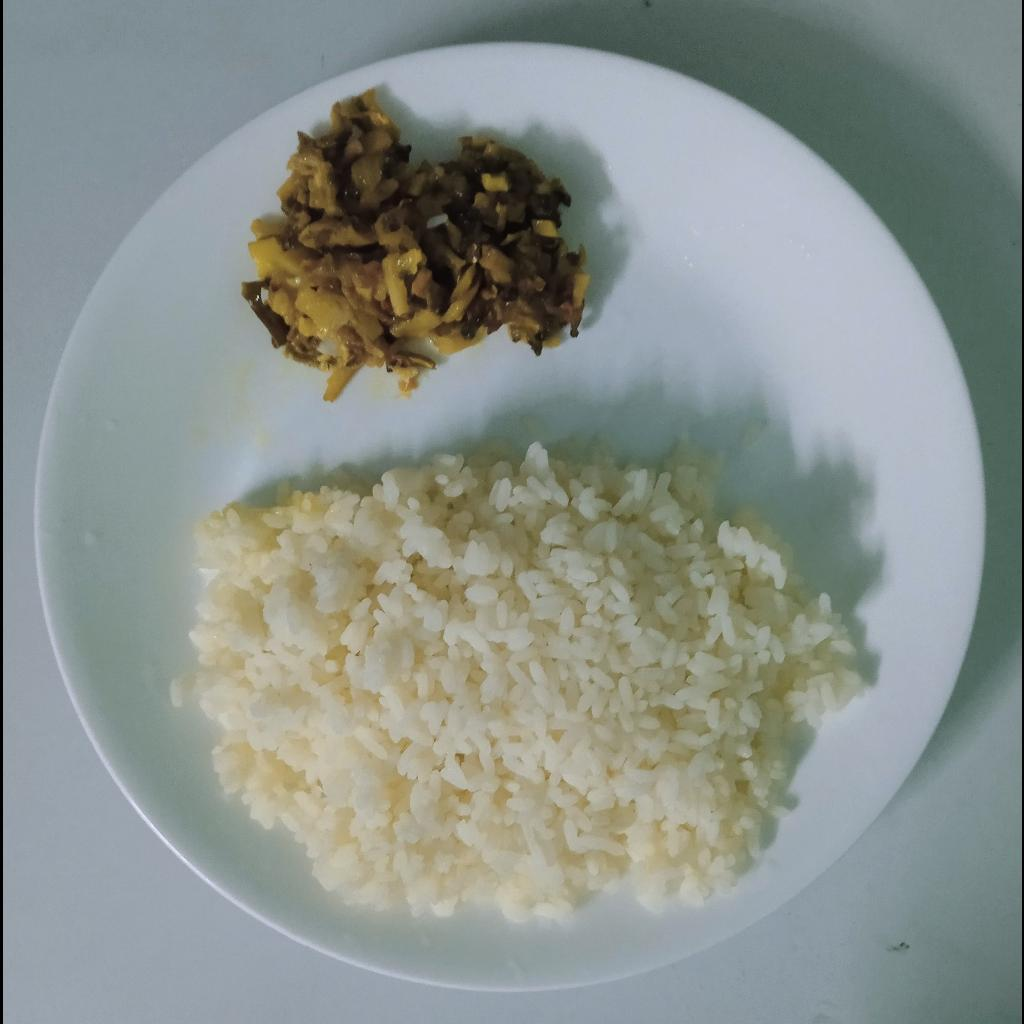rice: (164, 426, 865, 926)
vegetable: (238, 89, 592, 399)
